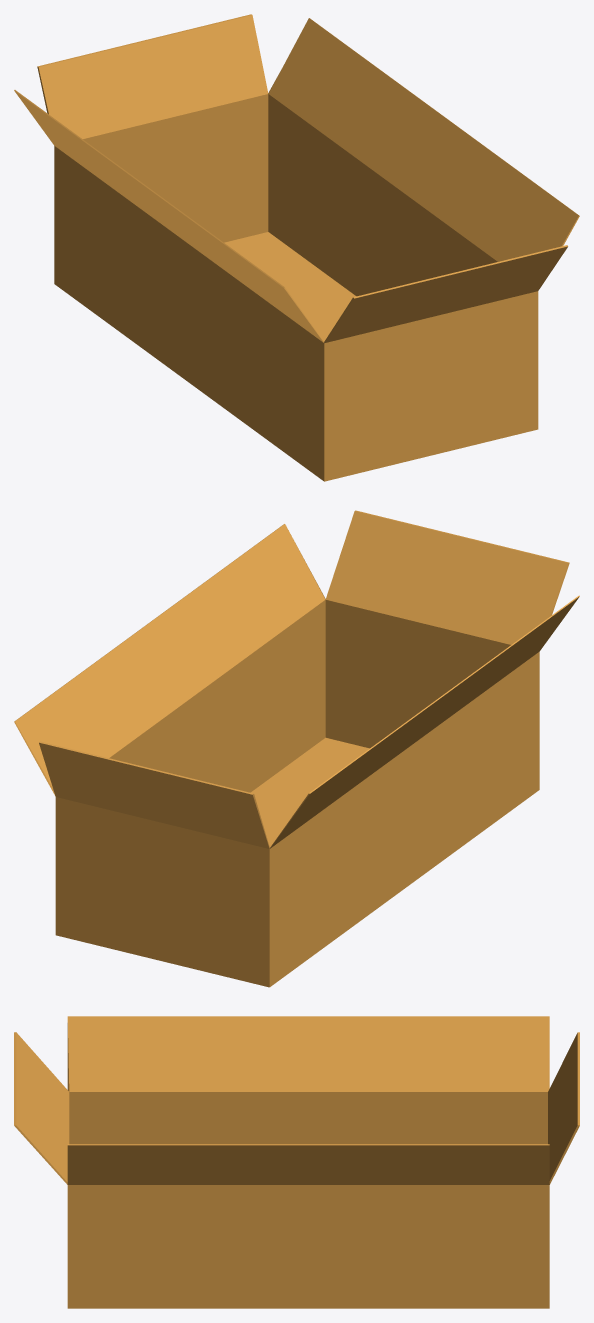
Rendered from Kardus.fbx.
3 views of the same model, one above another, from view 1: azimuth 30°, elevation 25°; view 2: azimuth 150°, elevation 25°; view 3: azimuth 270°, elevation 25° (orthographic). The views are drawn at different scales.
Visible parts, largest first — view 1: Cube; view 2: Cube; view 3: Cube.
Part boxes in pixels (<box>): Cube: <box>14,14,579,481</box>; Cube: <box>14,510,579,987</box>; Cube: <box>14,1016,579,1308</box>.
Bounding box in the file's own units: 277 × 184 × 513.
